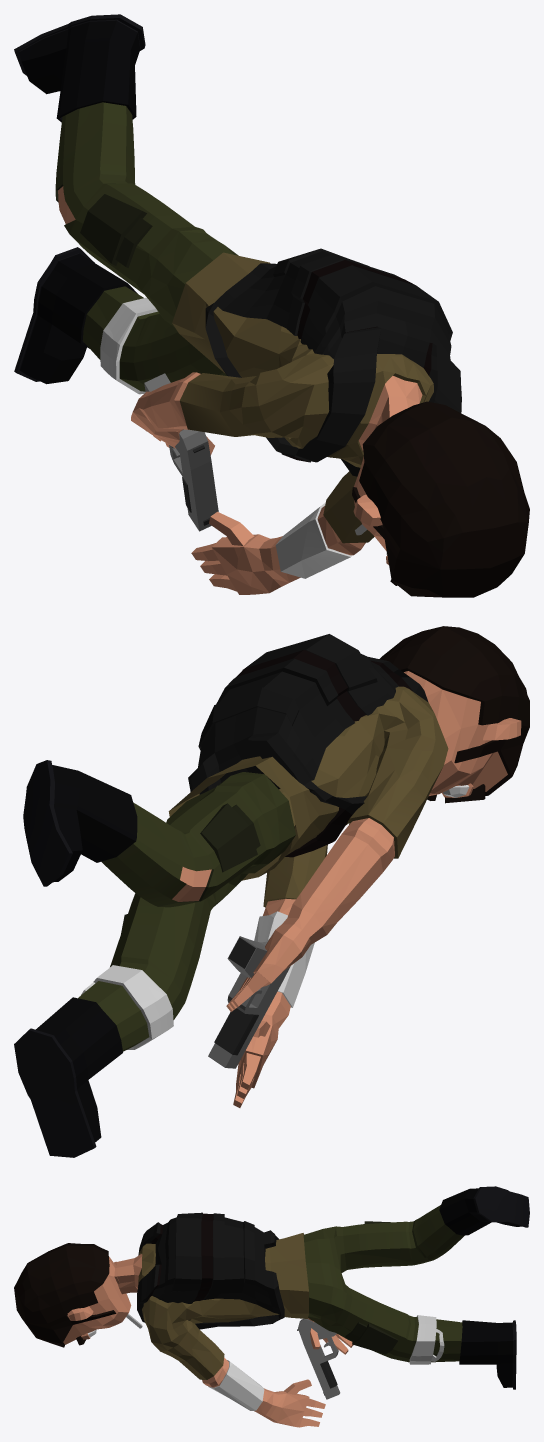
Rendered from frame_0031.obj.
3 renders of one model, top to bottom at view 1: azimuth 30°, elevation 25°; view 2: azimuth 150°, elevation 25°; view 3: azimuth 270°, elevation 25°, orthographic. The views are drawn at different scales.
Parts seen in each view (by area): view 1: Body, Gun; view 2: Body, Gun; view 3: Body, Gun.
Boxes of the visible parts, x1,y1,x2,y2 form: Body: [14, 14, 529, 597]; Gun: [144, 373, 218, 531]; Body: [14, 626, 529, 1157]; Gun: [208, 936, 290, 1068]; Body: [14, 1186, 529, 1427]; Gun: [297, 1318, 340, 1399].
Size of the model in its own units: 1.14 by 2.29 by 4.21.
